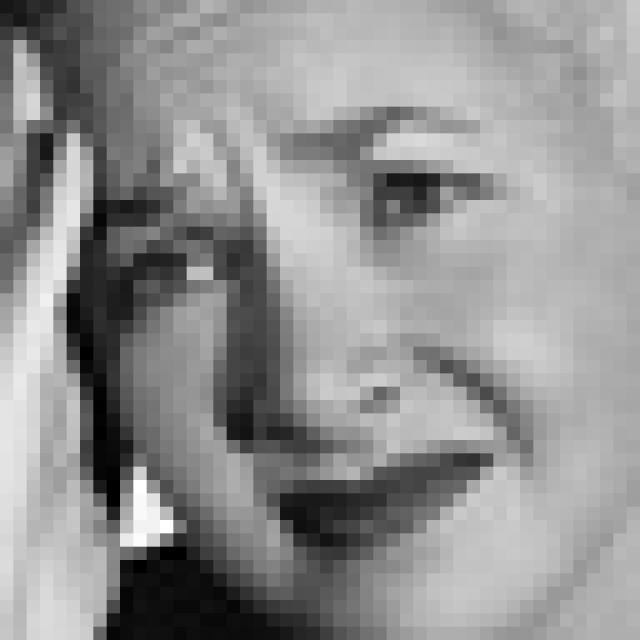sad: (97, 96, 553, 566)
